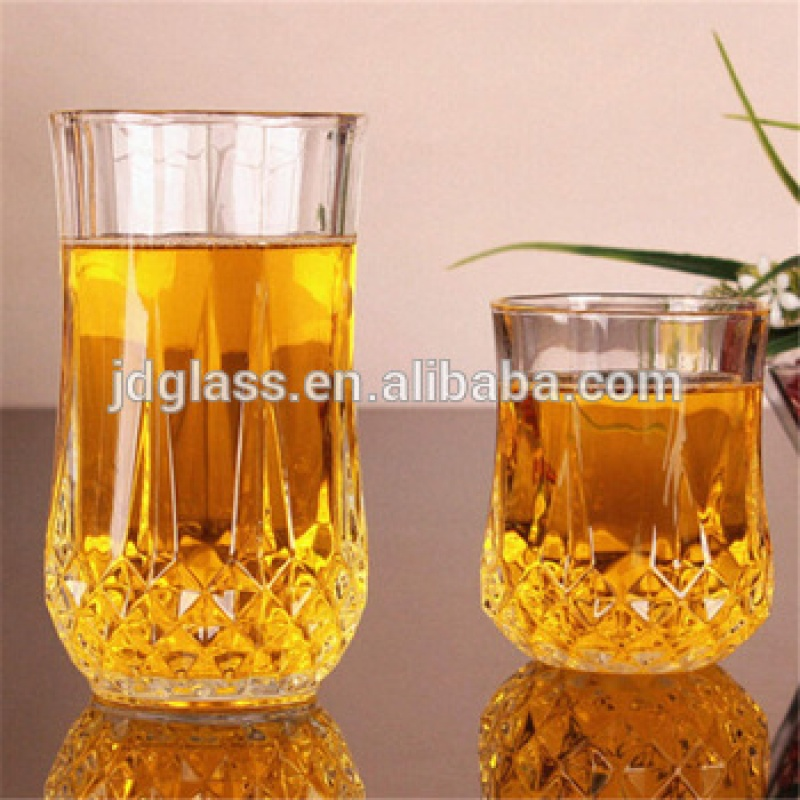whiskey: (28, 100, 367, 704), (488, 296, 776, 683)
